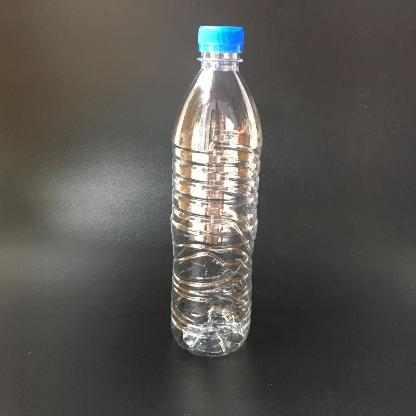Plastic Bottle: (170, 24, 262, 358)
